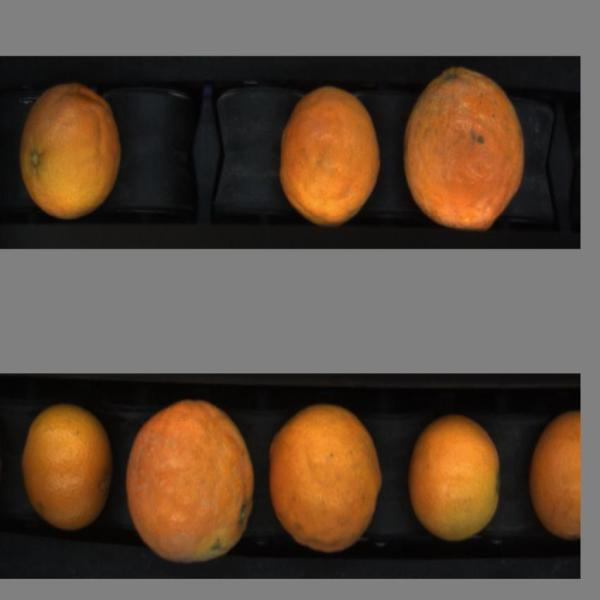Otros defectos: (120, 396, 269, 570), (399, 62, 528, 244), (264, 402, 385, 560), (13, 76, 142, 222), (273, 79, 382, 235), (16, 403, 116, 541), (403, 410, 503, 548), (528, 409, 580, 538)
